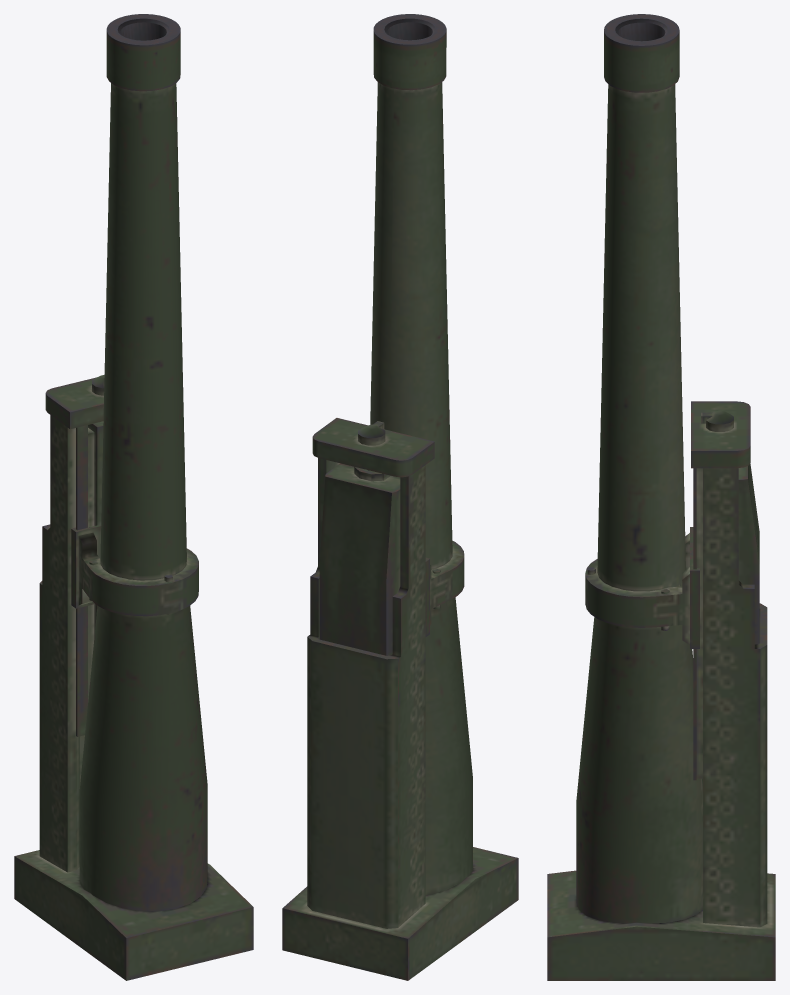
File: Gun_03.glb
The picture shows the model from 3 angles, left to right: view 1: azimuth 30°, elevation 25°; view 2: azimuth 150°, elevation 25°; view 3: azimuth 270°, elevation 25°; orthographic projection. The views are drawn at different scales.
Parts seen in each view (by area): view 1: set_0_group_0; view 2: set_0_group_0; view 3: set_0_group_0.
Boxes of the visible parts, x1,y1,x2,y2 form: set_0_group_0: [14, 14, 253, 980]; set_0_group_0: [282, 14, 518, 980]; set_0_group_0: [547, 14, 775, 980].
Bounding box in the file's own units: 0.4719 × 3.19 × 0.7193.
Materials: 1 (1 with a texture image).
